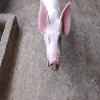heo: (37, 1, 73, 72)
